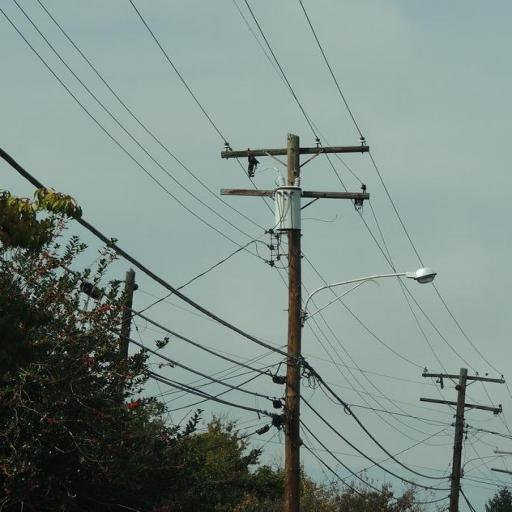mono_8: (218, 134, 375, 511), (419, 363, 506, 511)
